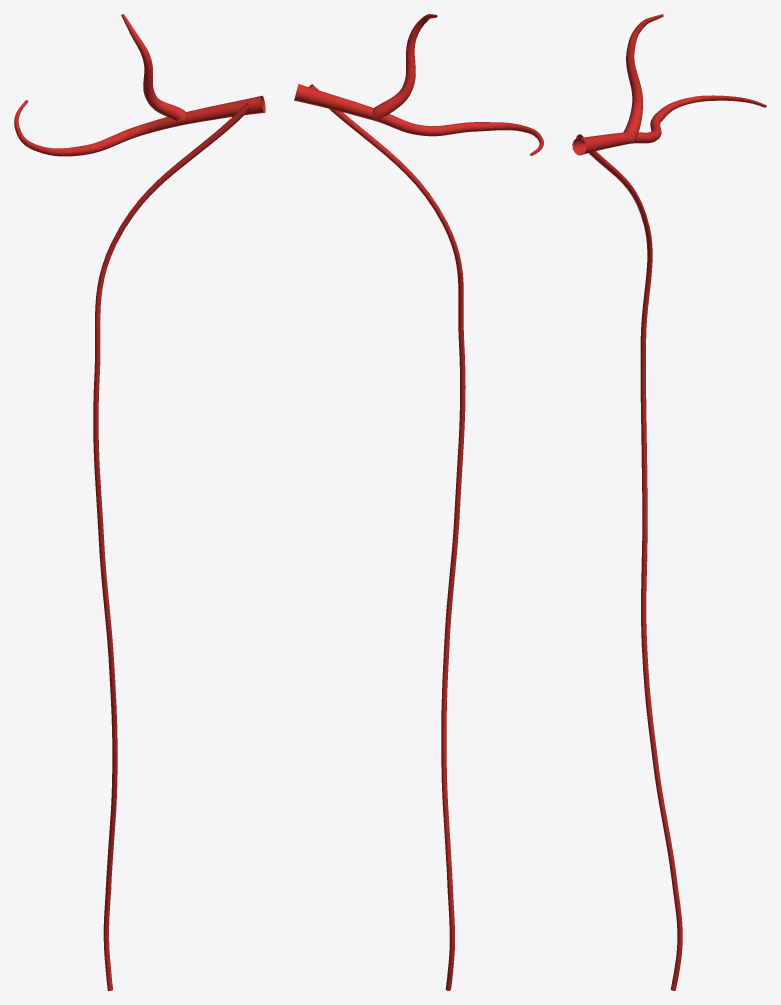
The model's file is circulatorio-lateral-circumflex-femoral-artery-r.glb.
The picture shows the model from 3 angles, left to right: view 1: azimuth 30°, elevation 25°; view 2: azimuth 210°, elevation 25°; view 3: azimuth 270°, elevation 25°; orthographic projection.
Parts seen in each view (by area): view 1: Descending branch of lateral circumflex femoral artery, Lateral circumflex femoral artery.r; view 2: Descending branch of lateral circumflex femoral artery, Lateral circumflex femoral artery.r; view 3: Descending branch of lateral circumflex femoral artery, Lateral circumflex femoral artery.r.
Part boxes in pixels (x1,y1,x2,y2): Descending branch of lateral circumflex femoral artery: (93, 103, 251, 990); Lateral circumflex femoral artery.r: (14, 14, 265, 156); Descending branch of lateral circumflex femoral artery: (309, 84, 465, 990); Lateral circumflex femoral artery.r: (294, 14, 543, 155); Descending branch of lateral circumflex femoral artery: (576, 134, 682, 990); Lateral circumflex femoral artery.r: (572, 14, 766, 155).
Size of the model in its own units: 0.0712 by 0.361 by 0.0649.
